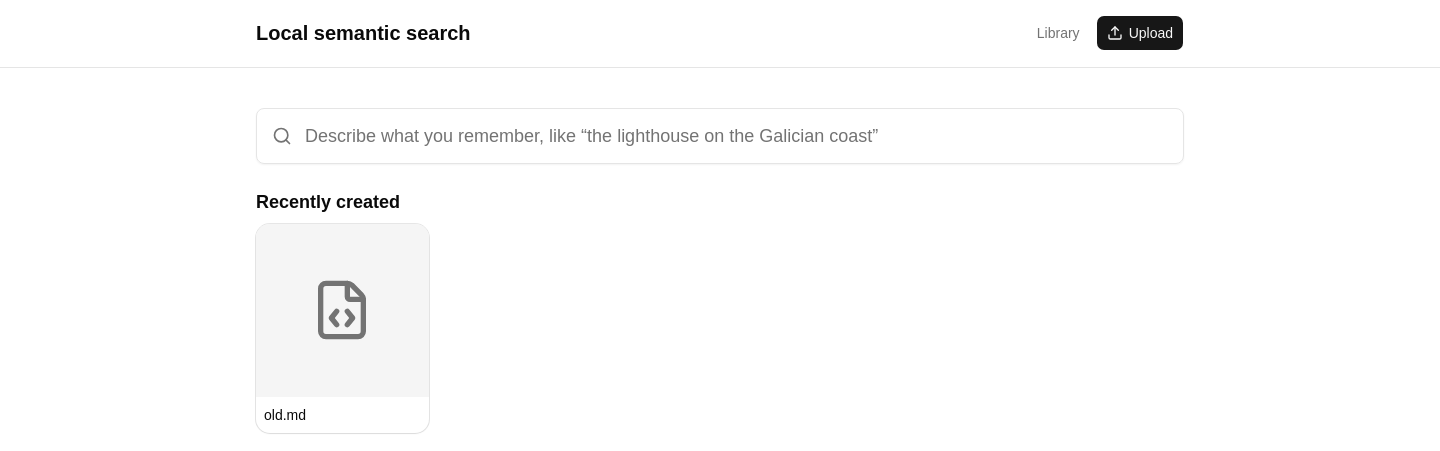
Test case: App › the navigation › should open the Library from its link, and mark the link as the current page
The width and height of the screenshot is (1440, 451).
Click the link "Library" at {"x": 1058, "y": 33}, box [1037,23,1080,43]
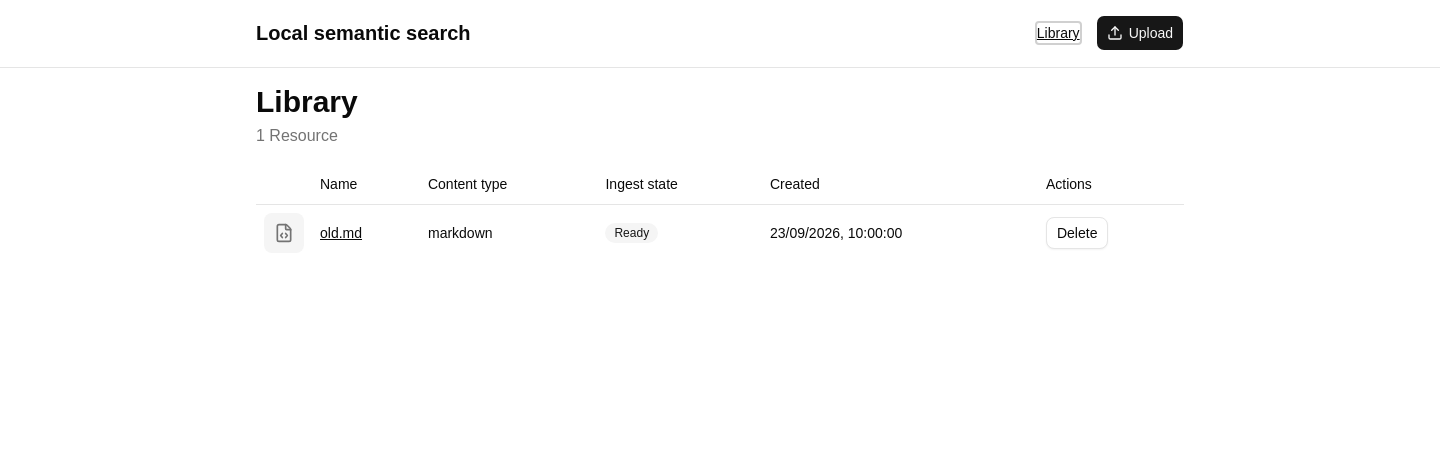
Now the heading "Library" is shown, box [256,85,358,118]
